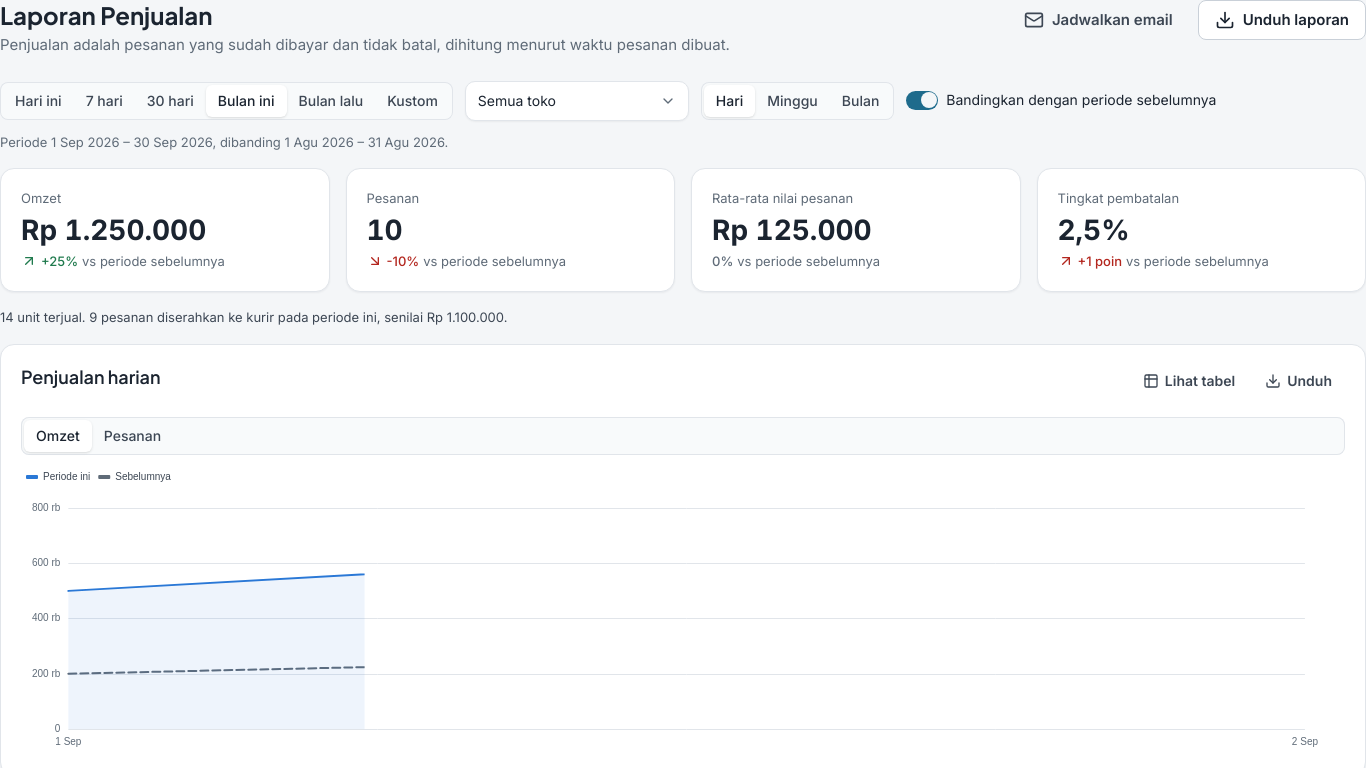
Test: SalesReportView (L30) › breaks sales down per channel, product, and hour, each with its CSV
Expected: the text "Rp 1.250.000" is shown, [21,212,206,246]
Click the button "Unduh laporan" at (1282,20), box [1198,0,1365,40]
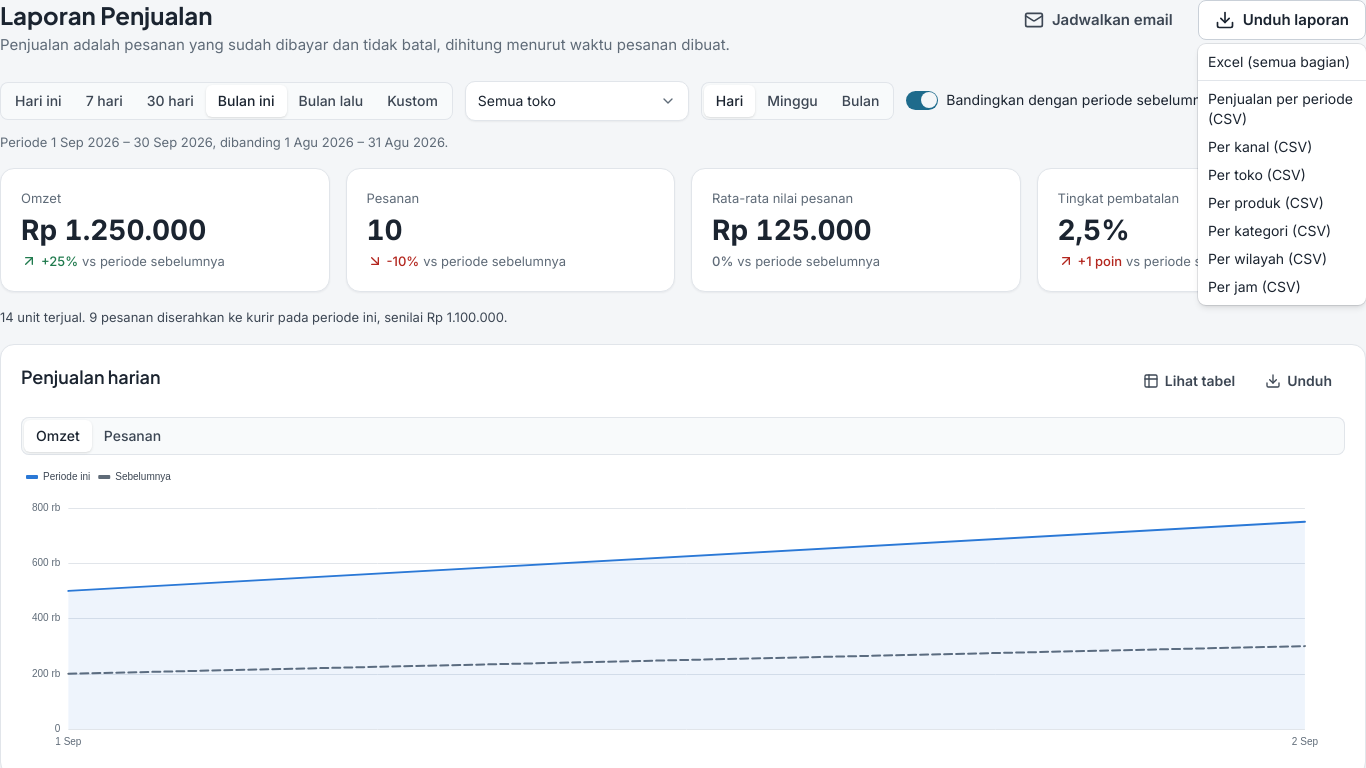
Press Escape
(page scrolled)
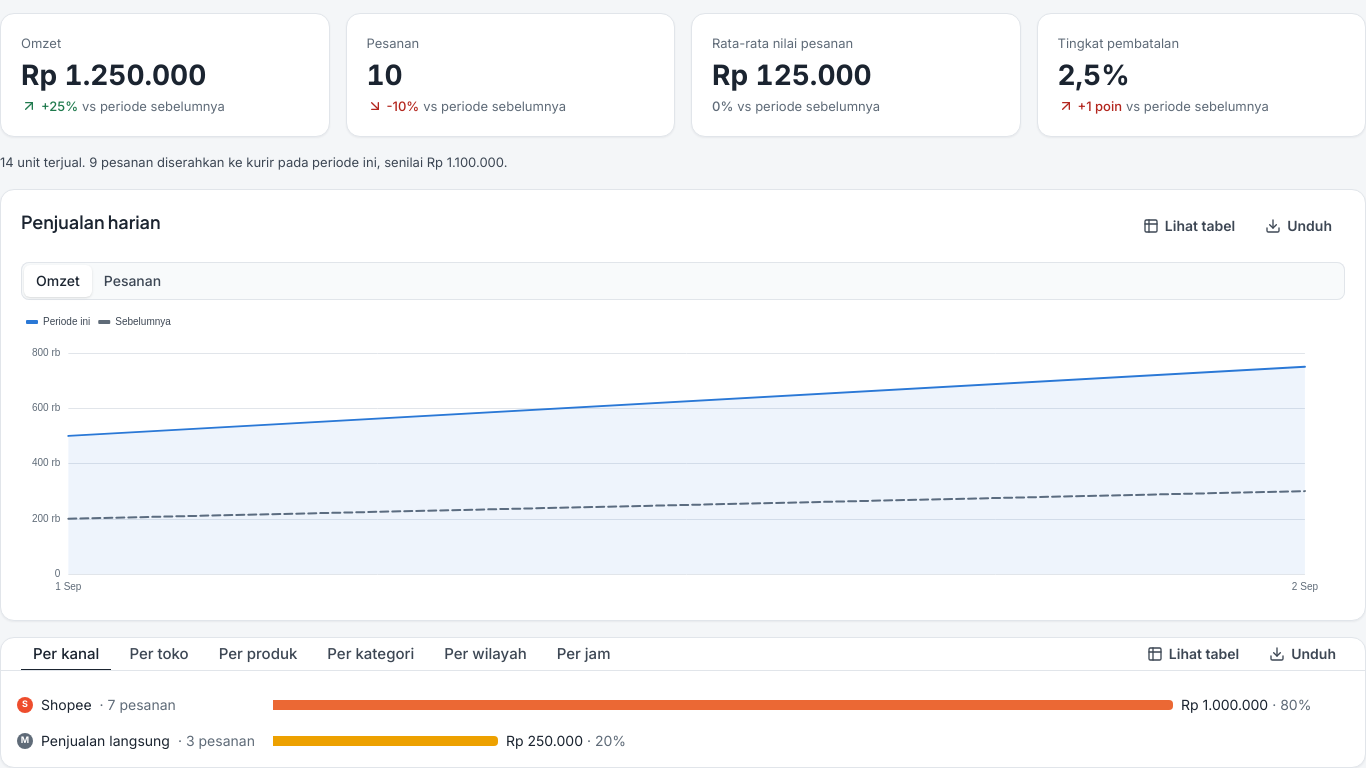
Click the button with aria-label "Lihat tabel Per kanal" at (1193,654), box [1134,638,1252,670]
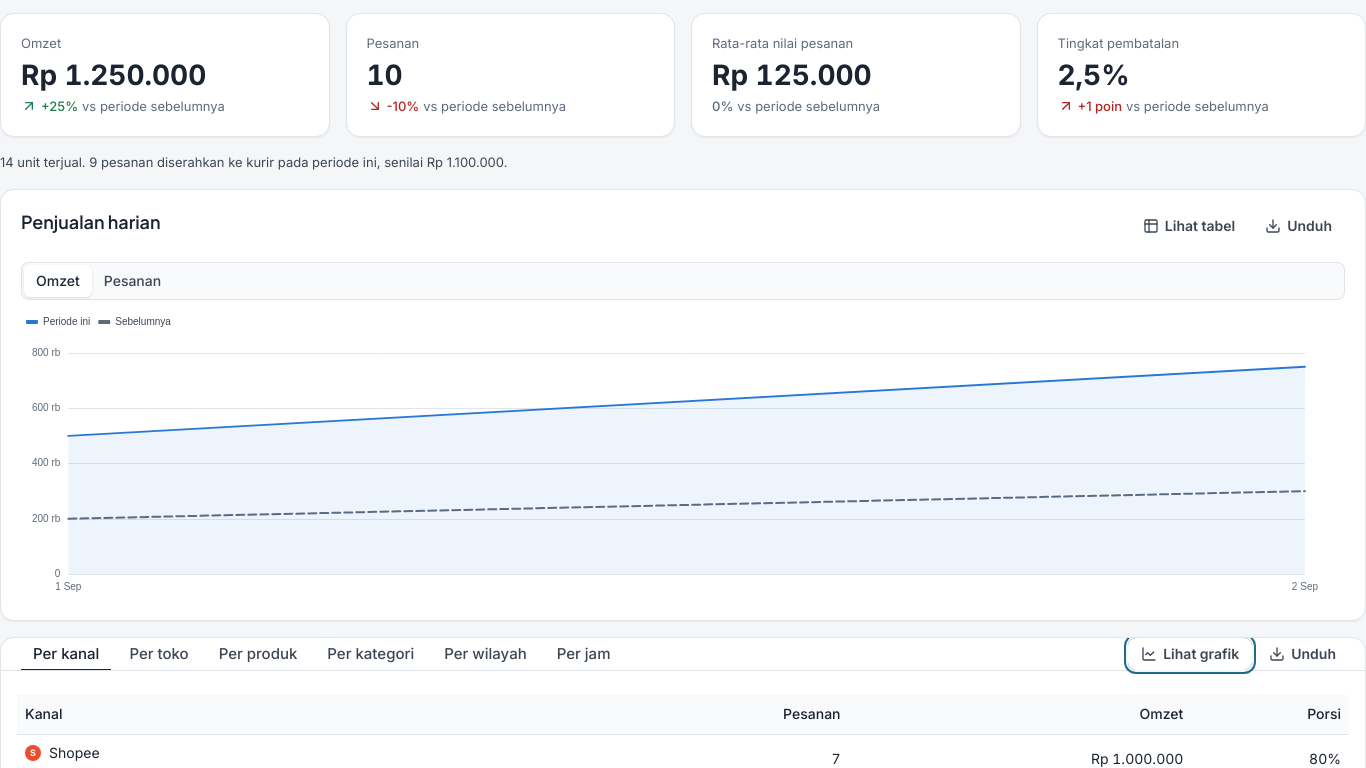
Expected: the button with aria-label "Lihat tabel Penjualan per periode" is shown, [1130,210,1248,242]
Now the column heading "Porsi" is shown, box [1191,694,1349,734]
Click the tab "Per produk" at (258,654), box [206,642,310,666]
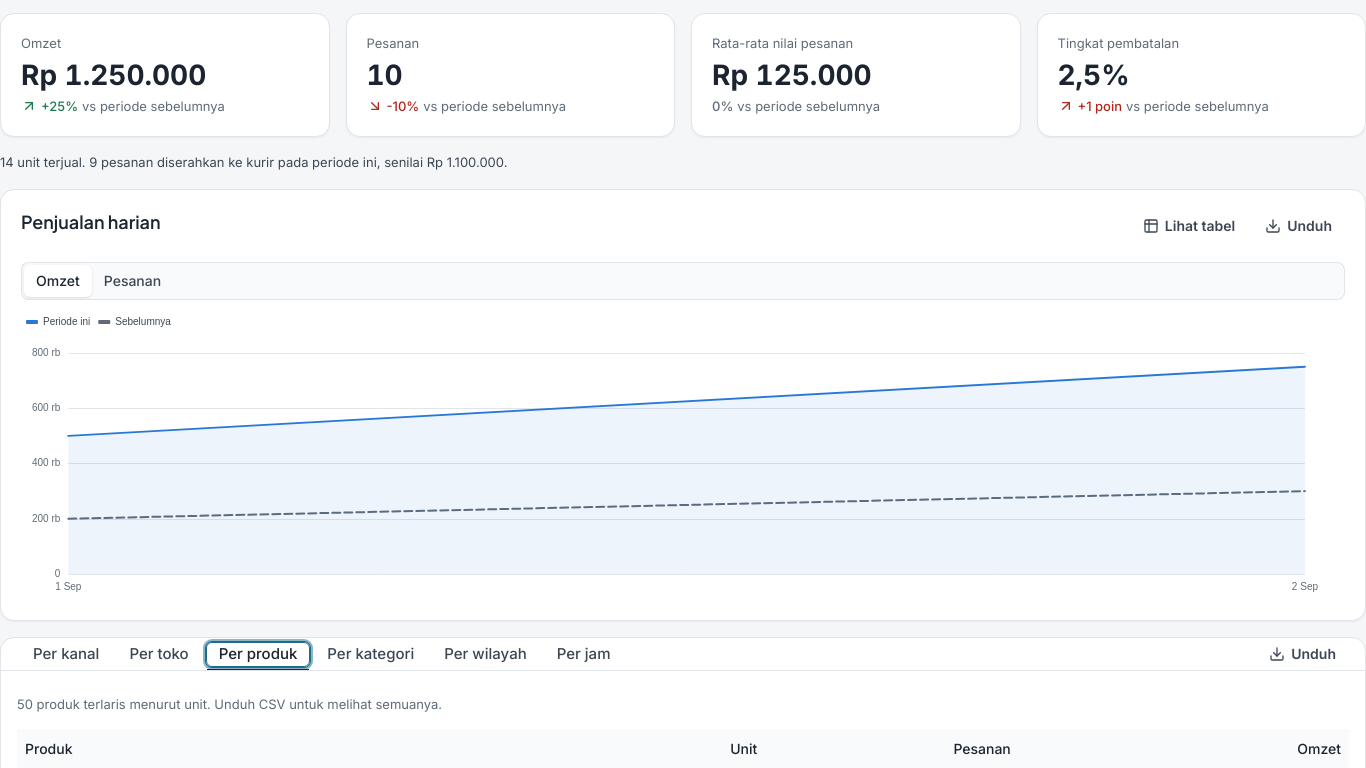
Note: the table view stays on when moving between tabs: the busy hours as rows, busiest first
Click the tab "Per jam" at (584,654), box [544,642,624,666]
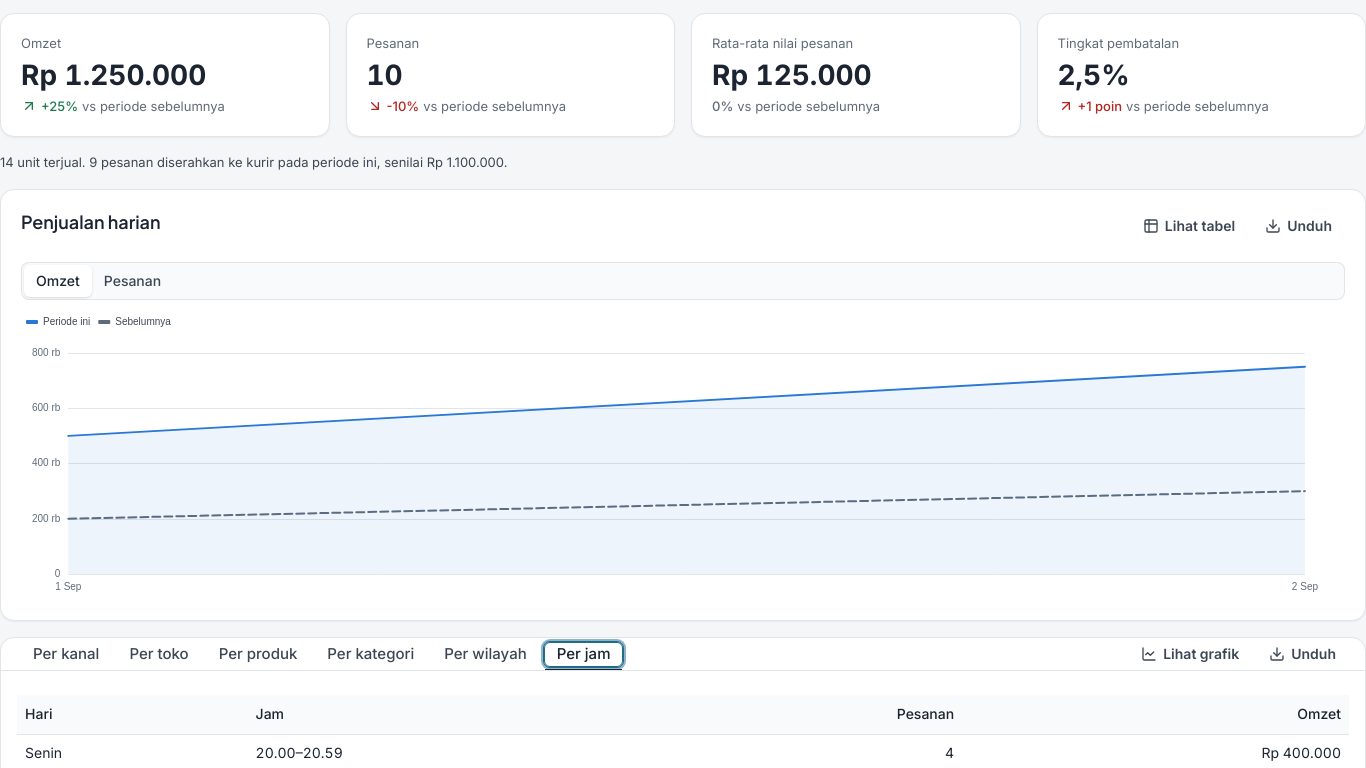
Click the button with aria-label "Lihat grafik Per jam" at (1190,654), box [1128,638,1252,670]
(page scrolled)
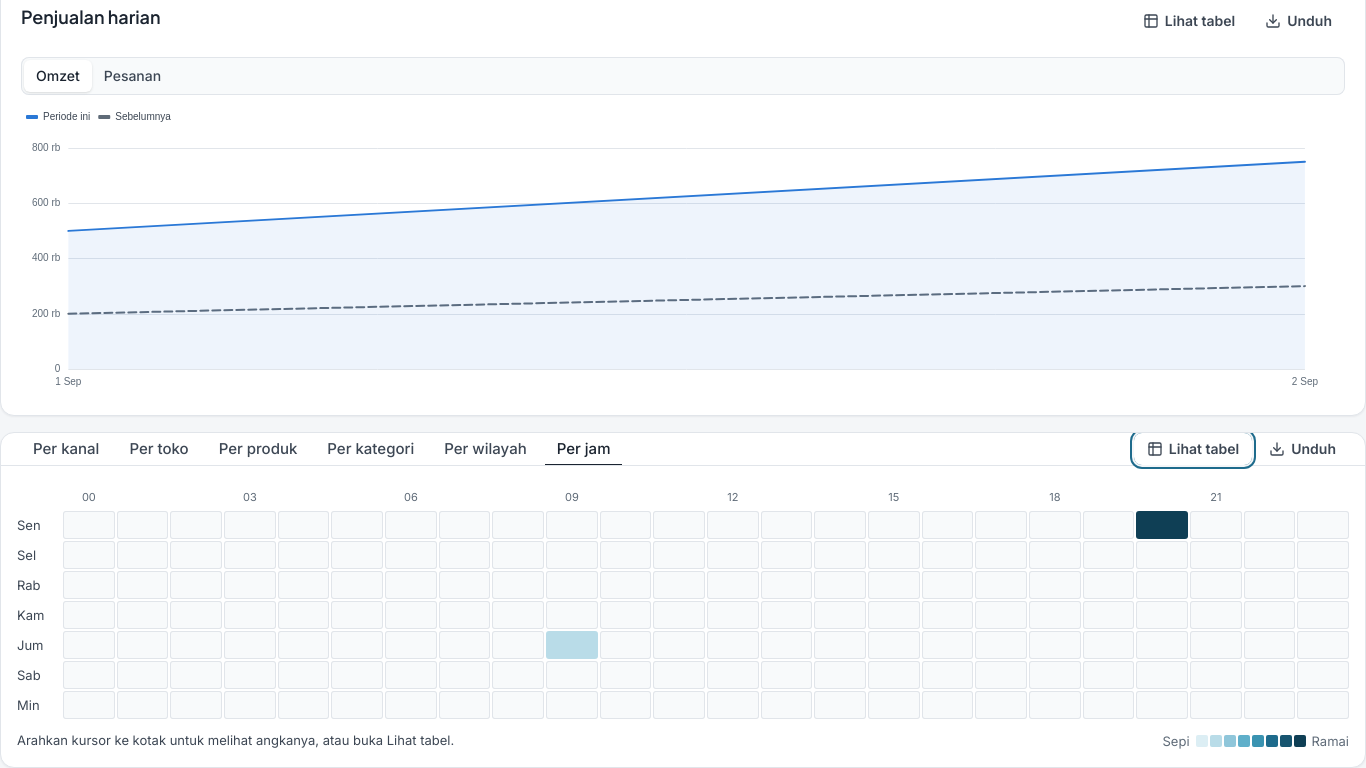
Now the picture named "Peta waktu ramai. Paling ramai hari Senin pukul 20.00 dengan 4 pesanan." is shown, box [17,490,1349,719]
